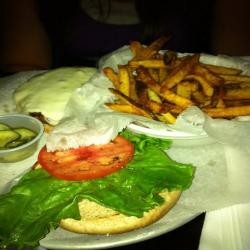fries: (113, 47, 244, 126)
salad: (6, 133, 189, 236)
